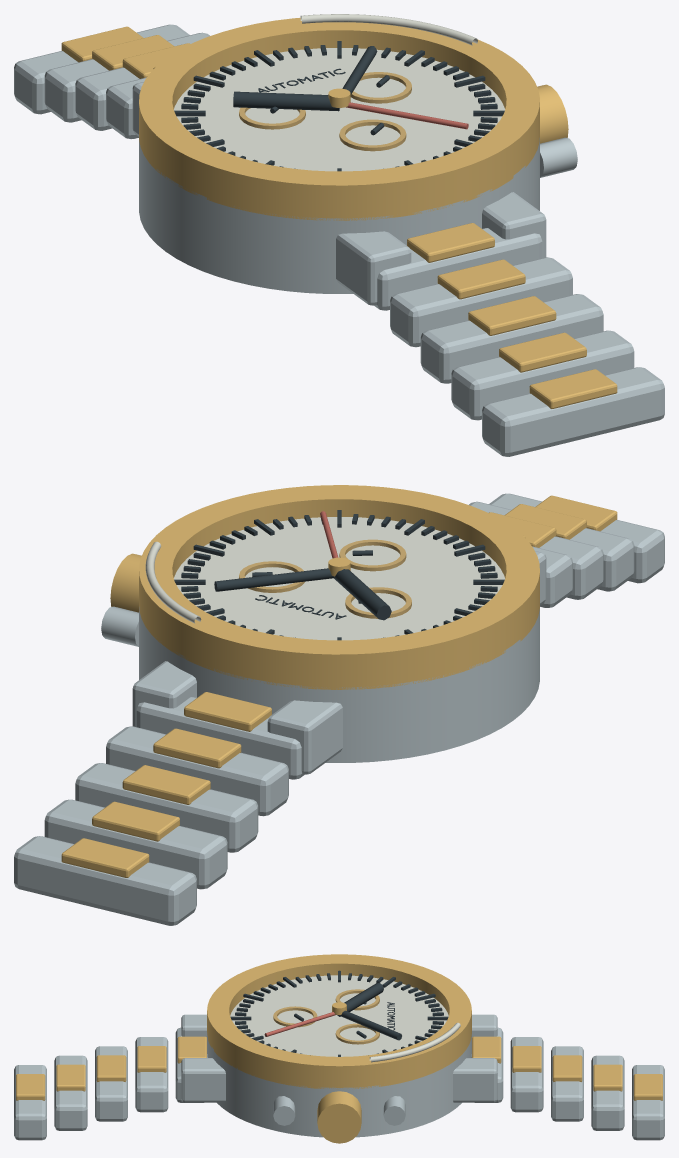
File: loot_watch.glb
The picture shows the model from 3 angles, top to bottom: view 1: azimuth 30°, elevation 25°; view 2: azimuth 150°, elevation 25°; view 3: azimuth 270°, elevation 25°; orthographic projection. The views are drawn at different scales.
Parts seen in each view (by area): view 1: loot_watch; view 2: loot_watch; view 3: loot_watch.
Part boxes in pixels (x1,y1,x2,y2): loot_watch: (14, 14, 664, 456); loot_watch: (14, 485, 664, 925); loot_watch: (14, 954, 664, 1143).
Size of the model in its own units: 0.08 by 0.0332 by 0.177.
